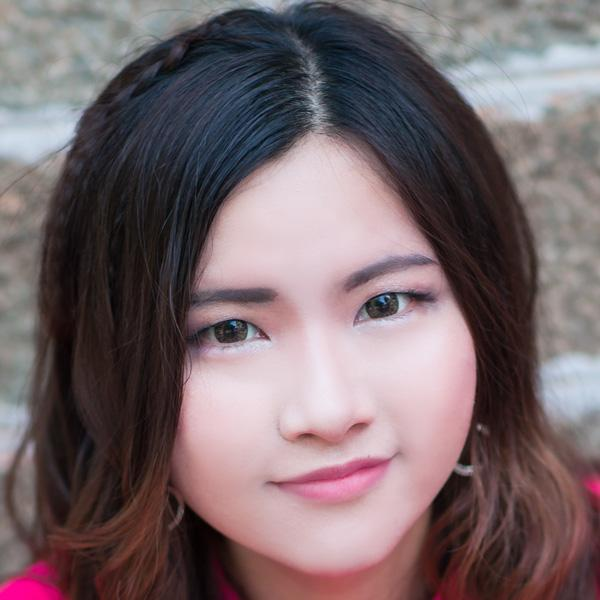Eyes: (182, 310, 278, 365), (344, 280, 435, 336)
